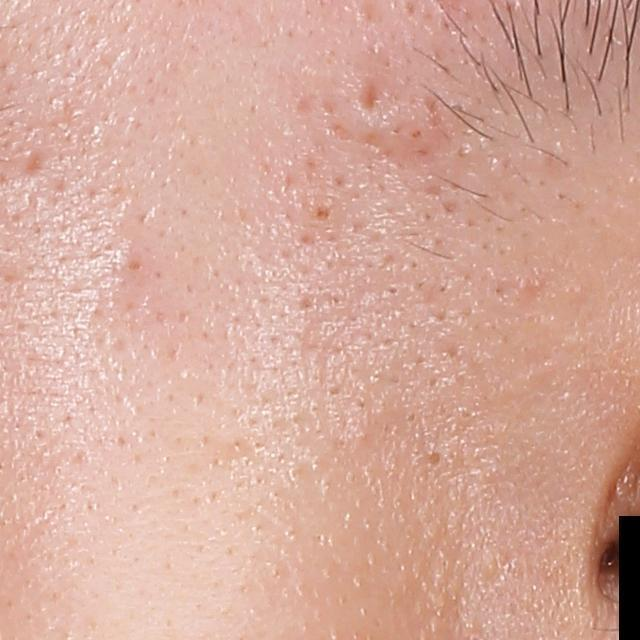atrophic_scar: (357, 75, 381, 115), (24, 145, 47, 176)
comedo: (423, 445, 450, 473), (308, 201, 336, 226), (124, 253, 146, 277), (381, 280, 405, 301)
